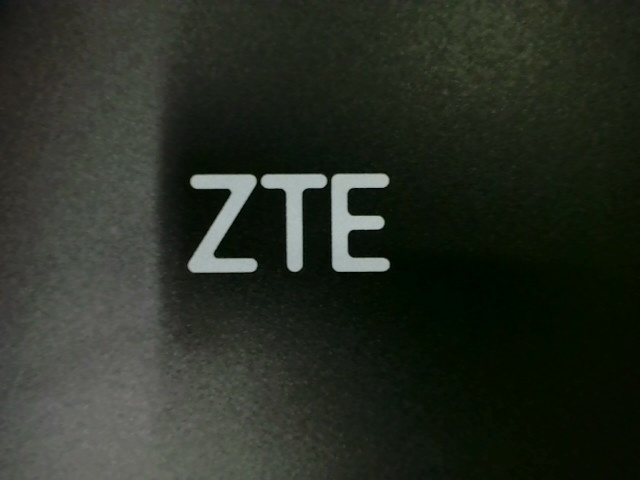AN_ZTE: (183, 161, 398, 291)
